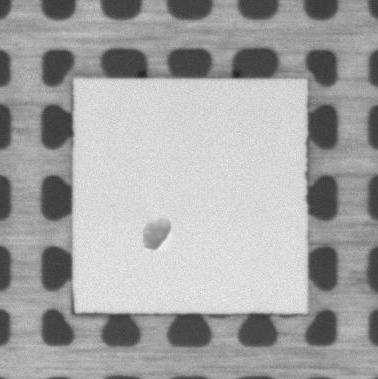DIE_INK: (138, 215, 174, 255)
